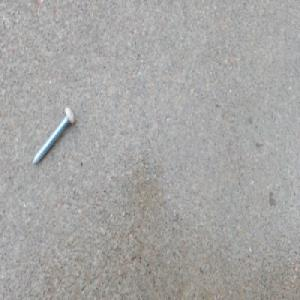Nail: (31, 105, 75, 168)
